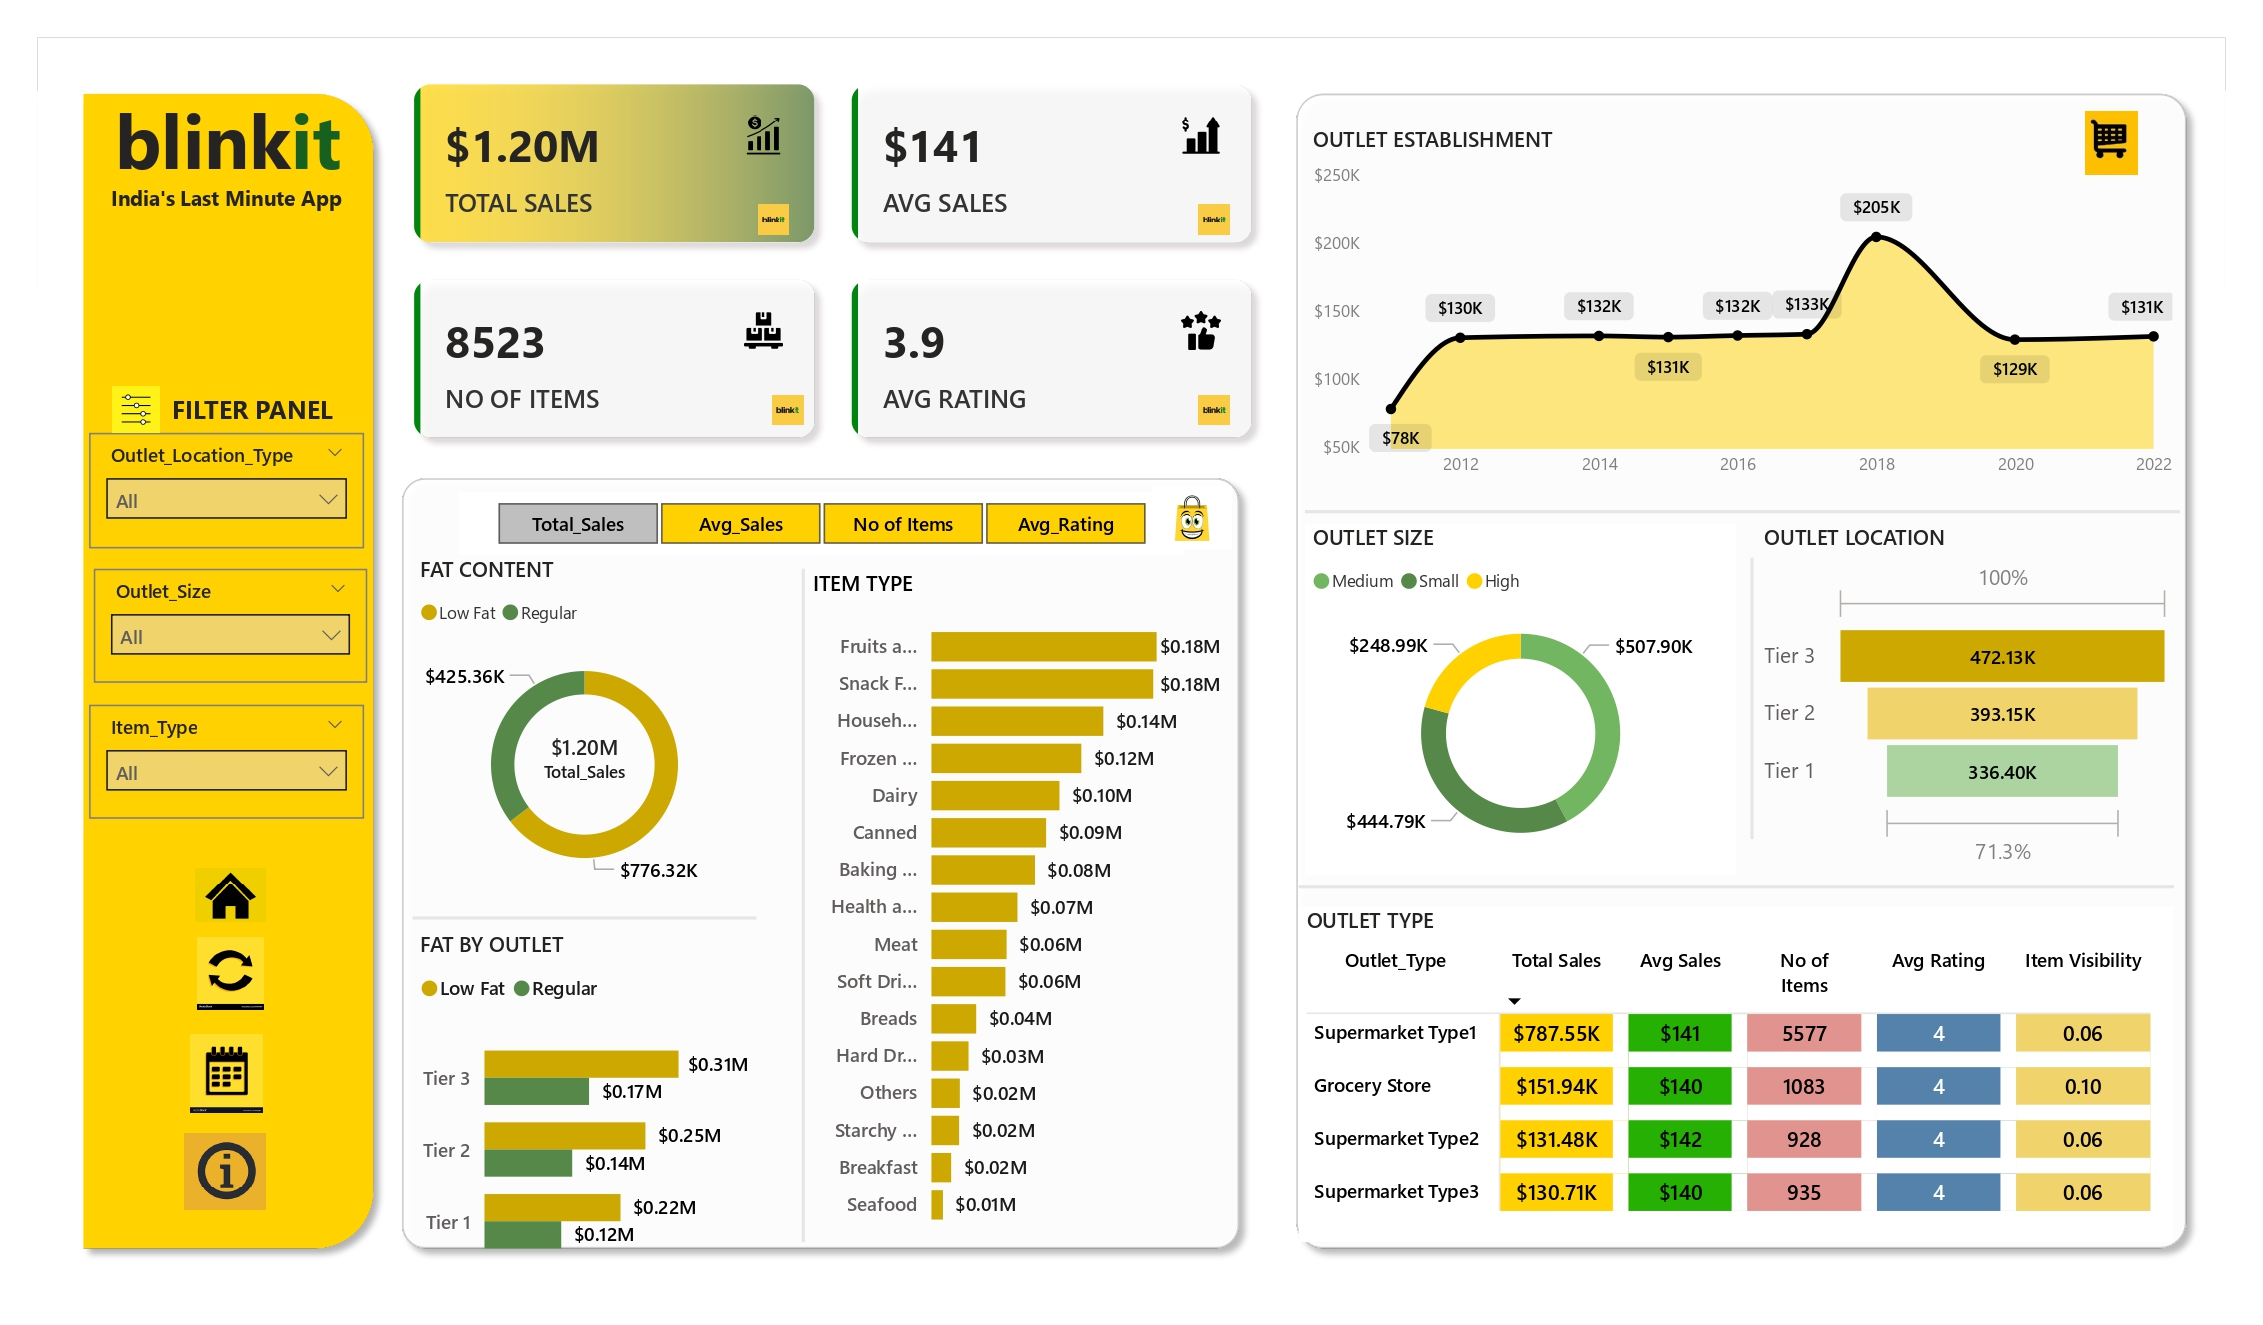

What the dashboard file says about the page in this screenshot:
{"tool":"powerbi","page":{"name":"Page 1","canvas":[1400,800],"ordinal":0},"visuals":[{"type":"shape","box":[20,26.7,204.4,757.8],"z":0},{"type":"textbox","box":[4.4,26.7,235.6,77.8],"z":1000},{"type":"textbox","box":[42.2,88.9,157.8,55.6],"z":2000},{"type":"cardVisual","fields":{"Data":["BlinkIT Grocery Data.Total_Sales","BlinkIT Grocery Data.Avg_Sales","BlinkIT Grocery Data.No of Items","BlinkIT Grocery Data.Avg_Rating"]},"box":[224.4,13.3,571.1,260],"z":3000},{"type":"shape","box":[224.4,273.3,553.3,511.1],"z":4000},{"type":"donutChart","title":"FAT CONTENT","fields":{"Y":["BlinkIT Grocery Data.Total Sales"],"Category":["BlinkIT Grocery Data.Item_FatContent"]},"box":[240,331.1,220,224.4],"z":5000},{"type":"slicer","fields":{"Values":["Matrics.Matrics"]},"box":[268.9,291.1,464.4,40],"z":6000},{"type":"cardVisual","fields":{"Data":["BlinkIT Grocery Data.Total Sales"]},"box":[297.8,422.2,104.4,77.8],"z":7000},{"type":"clusteredBarChart","title":"FAT BY OUTLET","fields":{"Y":["BlinkIT Grocery Data.Total Sales"],"Category":["BlinkIT Grocery Data.Outlet_Location_Type"],"Series":["BlinkIT Grocery Data.Item_FatContent"]},"box":[240,571.1,220,228.9],"z":8000},{"type":"shape","box":[240,555.6,220,15.6],"z":9000},{"type":"shape","box":[477.8,340,24.4,431.1],"z":10000},{"type":"barChart","title":"ITEM TYPE","fields":{"Y":["BlinkIT Grocery Data.Total Sales"],"Category":["BlinkIT Grocery Data.Item_Type"]},"box":[491.1,340,271.1,431.1],"z":11000},{"type":"shape","box":[795.6,26.7,588.9,757.8],"z":12000},{"type":"lineChart","title":"OUTLET ESTABLISHMENT","fields":{"Y":["BlinkIT Grocery Data.Total_Sales"],"Category":["BlinkIT Grocery Data.Outlet_Establishment_Year"]},"box":[811.1,55.6,560,235.6],"z":13000},{"type":"shape","box":[811.1,295.6,560,15.6],"z":14000},{"type":"donutChart","title":"OUTLET SIZE","fields":{"Y":["BlinkIT Grocery Data.Total_Sales"],"Category":["BlinkIT Grocery Data.Outlet_Size"]},"box":[811.1,311.1,275.6,224.4],"z":15000},{"type":"shape","box":[1086.7,333.3,20,180],"z":16000},{"type":"funnel","title":"OUTLET LOCATION","fields":{"Category":["BlinkIT Grocery Data.Outlet_Location_Type"],"Y":["Sum(BlinkIT Grocery Data.Sales)"]},"box":[1100,311.1,271.1,224.4],"z":17000},{"type":"shape","box":[806.7,535.6,560,15.6],"z":18000},{"type":"pivotTable","title":"OUTLET TYPE","fields":{"Rows":["BlinkIT Grocery Data.Outlet_Type"],"Values":["BlinkIT Grocery Data.Total_Sales","BlinkIT Grocery Data.Avg_Sales","BlinkIT Grocery Data.No of Items","BlinkIT Grocery Data.Avg_Rating","Avg(BlinkIT Grocery Data.Item_Visibility)"]},"box":[806.7,555.6,560,215.6],"z":19000},{"type":"slicer","fields":{"Values":["BlinkIT Grocery Data.Outlet_Location_Type"]},"box":[33.3,253.3,175.6,73.3],"z":19001},{"type":"slicer","fields":{"Values":["BlinkIT Grocery Data.Outlet_Size"]},"box":[35.6,340,175.6,73.3],"z":19002},{"type":"slicer","fields":{"Values":["BlinkIT Grocery Data.Item_Type"]},"box":[33.3,426.7,175.6,73.3],"z":19003},{"type":"textbox","box":[64.4,222.2,146.7,31.1],"z":19004},{"type":"image","box":[451.1,102.2,40,28.9],"z":19005},{"type":"image","box":[733.3,102.2,40,28.9],"z":19006},{"type":"image","box":[460,224.4,40,28.9],"z":19007},{"type":"image","box":[733.3,224.4,40,28.9],"z":19008},{"type":"image","box":[700,282.2,75.6,51.1],"z":19009},{"type":"image","box":[42.2,217.8,42.2,40],"z":19010},{"type":"image","box":[1286.7,42.2,80,51.1],"z":19011},{"type":"image","box":[91.1,526.7,64.4,44.4],"z":19013},{"type":"image","box":[95.6,571.1,55.6,55.6],"z":19014},{"type":"image","box":[91.1,633.3,60,60],"z":19015},{"type":"image","box":[88.9,680,62.2,91.1],"z":19016}]}

Visuals, with their boxes in screenshot pixels (x1, y1, x2, y2):
shape: 69, 79, 388, 1263
textbox: 44, 79, 413, 201
textbox: 103, 176, 350, 263
cardVisual - BlinkIT Grocery Data.Total_Sales x BlinkIT Grocery Data.Avg_Sales: 388, 58, 1281, 465
shape: 388, 465, 1253, 1263
"FAT CONTENT" donutChart: 413, 555, 756, 905
slicer - Matrics.Matrics: 458, 492, 1184, 555
cardVisual - BlinkIT Grocery Data.Total Sales: 503, 697, 666, 819
"FAT BY OUTLET" clusteredBarChart: 413, 930, 756, 1288
shape: 413, 906, 756, 930
shape: 784, 569, 822, 1242
"ITEM TYPE" barChart: 805, 569, 1229, 1242
shape: 1281, 79, 2201, 1263
"OUTLET ESTABLISHMENT" lineChart: 1305, 124, 2180, 492
shape: 1305, 499, 2180, 524
"OUTLET SIZE" donutChart: 1305, 524, 1736, 874
shape: 1736, 558, 1767, 840
"OUTLET LOCATION" funnel: 1757, 524, 2180, 874
shape: 1298, 874, 2173, 899
"OUTLET TYPE" pivotTable: 1298, 906, 2173, 1242
slicer - BlinkIT Grocery Data.Outlet_Location_Type: 90, 433, 364, 548
slicer - BlinkIT Grocery Data.Outlet_Size: 93, 569, 368, 683
slicer - BlinkIT Grocery Data.Item_Type: 90, 704, 364, 819
textbox: 138, 385, 367, 433
image: 743, 197, 805, 242
image: 1184, 197, 1246, 242
image: 756, 388, 819, 433
image: 1184, 388, 1246, 433
image: 1132, 478, 1250, 558
image: 103, 378, 169, 440
image: 2048, 103, 2173, 183
image: 180, 860, 281, 930
image: 187, 930, 274, 1017
image: 180, 1027, 274, 1121
image: 176, 1100, 274, 1242
